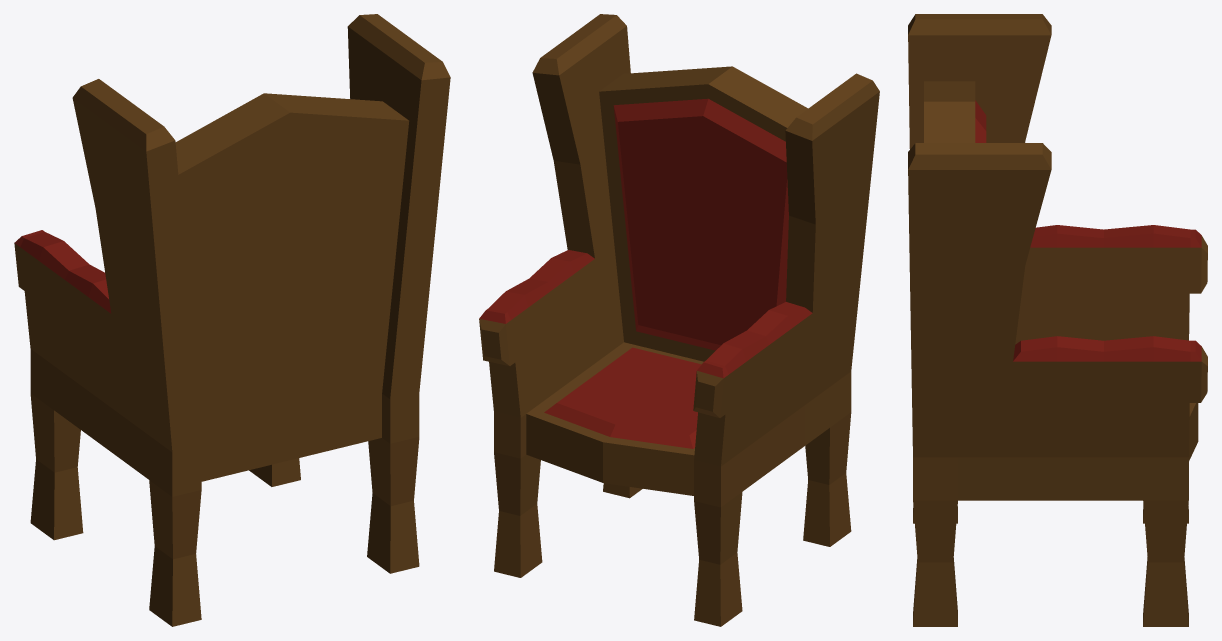
Rendered from chair.fbx.
The picture shows the model from 3 angles, left to right: view 1: azimuth 30°, elevation 25°; view 2: azimuth 150°, elevation 25°; view 3: azimuth 270°, elevation 25°; orthographic projection. The views are drawn at different scales.
Parts seen in each view (by area): view 1: Cylinder.004, Cylinder; view 2: Cylinder.004, Cylinder; view 3: Cylinder.004, Cylinder.
Part boxes in pixels (x1=…): Cylinder.004: x1=14, y1=14, x2=450, y2=626; Cylinder: x1=175, y1=93, x2=409, y2=481; Cylinder.004: x1=479, y1=14, x2=879, y2=626; Cylinder: x1=526, y1=66, x2=807, y2=495; Cylinder.004: x1=908, y1=14, x2=1207, y2=626; Cylinder: x1=924, y1=81, x2=1198, y2=460.
Bounding box in the file's own units: 176 × 316 × 201.
